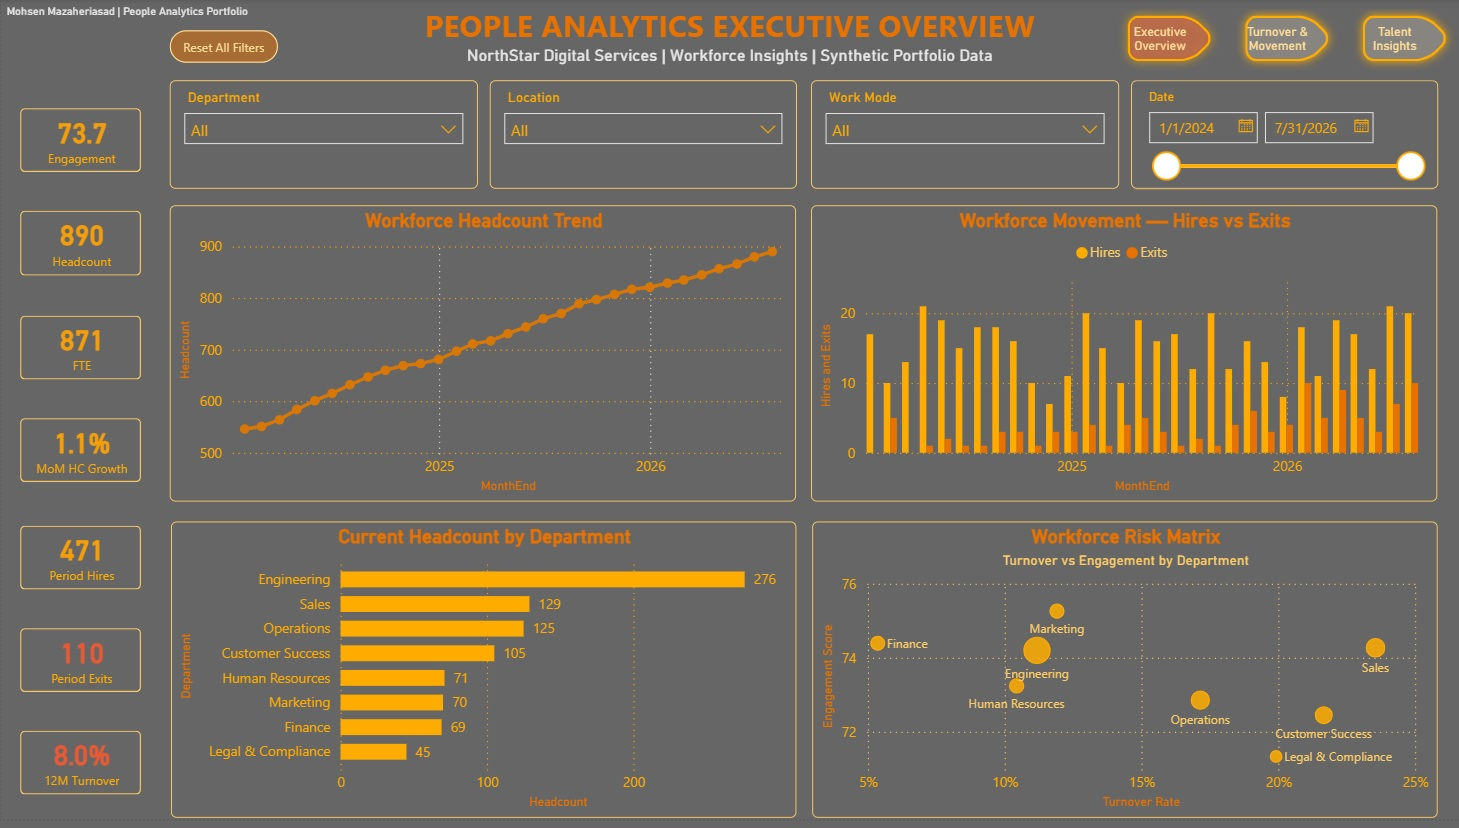

The page's visual inventory and layout, read from the dashboard file:
{"tool":"powerbi","page":{"name":"Executive Overview","canvas":[1280,720],"ordinal":0},"visuals":[{"type":"textbox","box":[343.1,0,592.5,71.2],"z":0},{"type":"slicer","fields":{"Values":["DimEmployee.Department"]},"box":[148.4,71.2,270,95],"z":1000},{"type":"cardVisual","fields":{"Data":["_Measures.Average Engagement"]},"box":[0,79.2,140.5,90.1],"z":2000},{"type":"lineChart","title":"Workforce Headcount Trend","fields":{"Y":["_Measures.Headcount"],"Category":["DimDate.MonthEnd"]},"box":[148.4,180.5,549.7,260],"z":3000},{"type":"clusteredColumnChart","title":"Workforce Movement — Hires vs Exits","fields":{"Category":["DimDate.MonthEnd"],"Y":["_Measures.Hires","_Measures.Exits"]},"box":[711.2,180.5,549.7,260],"z":4000},{"type":"clusteredBarChart","title":"Current Headcount by Department","fields":{"Category":["DimEmployee.Department"],"Y":["_Measures.Headcount"]},"box":[148.7,458.6,549,260],"z":5000},{"type":"scatterChart","title":"Workforce Risk Matrix","fields":{"X":["_Measures.Turnover Rate"],"Y":["_Measures.Average Engagement"],"Size":["_Measures.Headcount"],"Category":["DimEmployee.Department"]},"box":[711.4,458.6,549,260],"z":6000},{"type":"slicer","fields":{"Values":["DimEmployee.Location"]},"box":[428.6,71.2,269.5,95],"z":7000},{"type":"slicer","fields":{"Values":["DimEmployee.WorkMode"]},"box":[711.2,71.2,270,95],"z":8000},{"type":"slicer","fields":{"Values":["DimDate.Date"]},"box":[991.4,71.2,269.5,95],"z":9000},{"type":"cardVisual","fields":{"Data":["_Measures.Headcount"]},"box":[0,169.3,140.5,91.3],"z":10000},{"type":"cardVisual","fields":{"Data":["_Measures.FTE"]},"box":[0,260.6,140.5,90.1],"z":11000},{"type":"cardVisual","fields":{"Data":["_Measures.Headcount Growth"]},"box":[0,350.6,140.5,90.1],"z":12000},{"type":"cardVisual","fields":{"Data":["_Measures.Hires"]},"box":[0,445.5,140.5,90.1],"z":13000},{"type":"cardVisual","fields":{"Data":["_Measures.Exits"]},"box":[0,535.5,140.5,90.1],"z":14000},{"type":"cardVisual","fields":{"Data":["_Measures.12M Turnover Rate"]},"box":[0,625.6,140.5,90.1],"z":15000},{"type":"pageNavigator","box":[980.8,7.1,299.2,57],"z":16000},{"type":"actionButton","box":[148.4,27.3,95,28.5],"z":17000},{"type":"textbox","box":[0,0,243.5,27.4],"z":17001}]}

Visuals, with their boxes in screenshot pixels (x1, y1, x2, y2), scaled from the page's 1280x720 canvas onto the 1459x828 screenshot:
textbox: left=391, top=0, right=1066, bottom=82
slicer - DimEmployee.Department: left=169, top=82, right=477, bottom=191
cardVisual - _Measures.Average Engagement: left=0, top=91, right=160, bottom=195
"Workforce Headcount Trend" lineChart: left=169, top=208, right=796, bottom=507
"Workforce Movement — Hires vs Exits" clusteredColumnChart: left=811, top=208, right=1437, bottom=507
"Current Headcount by Department" clusteredBarChart: left=169, top=527, right=795, bottom=826
"Workforce Risk Matrix" scatterChart: left=811, top=527, right=1437, bottom=826
slicer - DimEmployee.Location: left=489, top=82, right=796, bottom=191
slicer - DimEmployee.WorkMode: left=811, top=82, right=1118, bottom=191
slicer - DimDate.Date: left=1130, top=82, right=1437, bottom=191
cardVisual - _Measures.Headcount: left=0, top=195, right=160, bottom=300
cardVisual - _Measures.FTE: left=0, top=300, right=160, bottom=403
cardVisual - _Measures.Headcount Growth: left=0, top=403, right=160, bottom=507
cardVisual - _Measures.Hires: left=0, top=512, right=160, bottom=616
cardVisual - _Measures.Exits: left=0, top=616, right=160, bottom=719
cardVisual - _Measures.12M Turnover Rate: left=0, top=719, right=160, bottom=823
pageNavigator: left=1118, top=8, right=1458, bottom=74
actionButton: left=169, top=31, right=277, bottom=64
textbox: left=0, top=0, right=278, bottom=32
